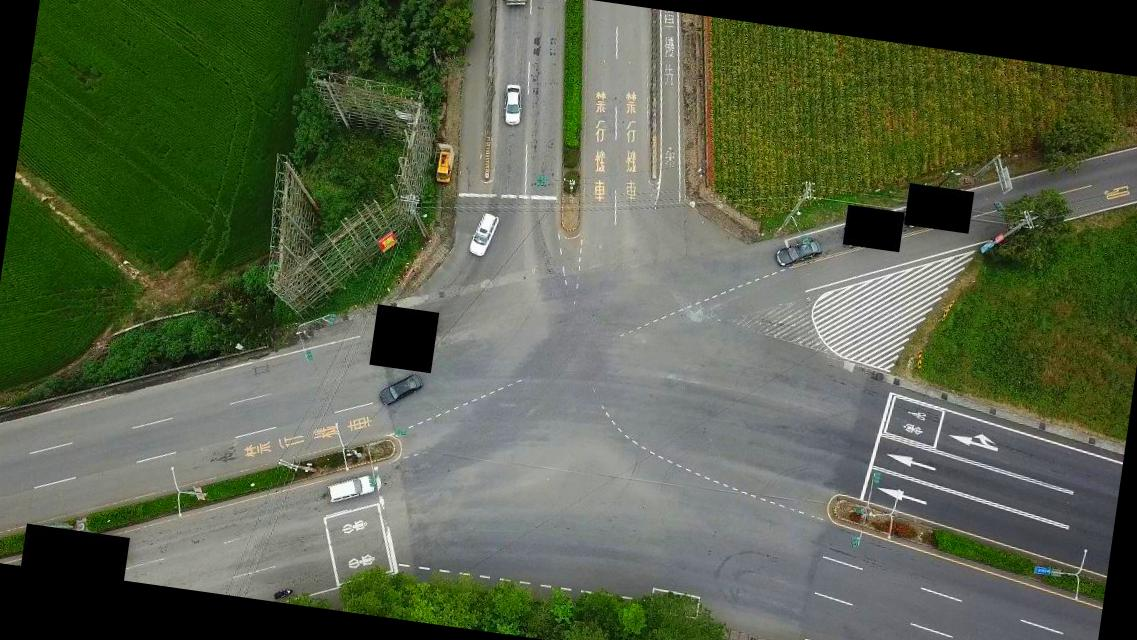vehicle: (376, 368, 423, 411), (326, 468, 377, 506), (772, 234, 824, 268), (468, 210, 498, 260), (500, 81, 526, 126), (432, 148, 456, 184)
